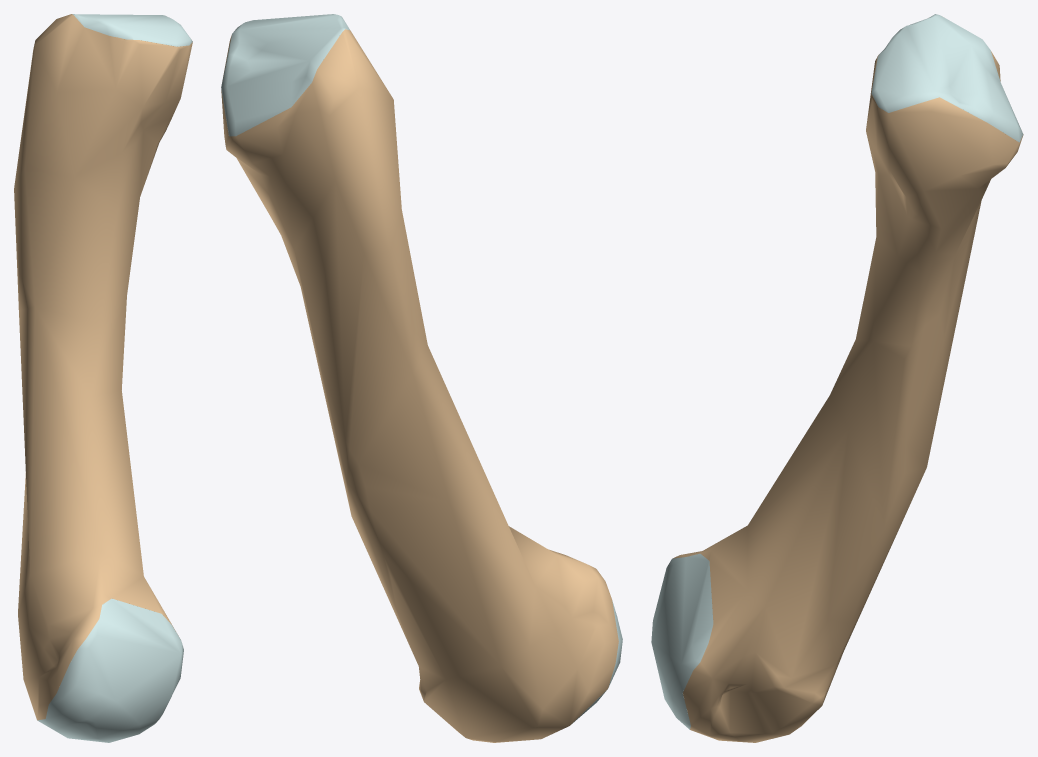
The model's file is 5th_metacarpal_bone.l_Generated_Mesh_From_X3D.738.glb.
3 renders of one model, left to right at view 1: azimuth 30°, elevation 25°; view 2: azimuth 150°, elevation 25°; view 3: azimuth 270°, elevation 25°, orthographic. The views are drawn at different scales.
Parts seen in each view (by area): view 1: 5th_metacarpal_bone.l_Generated_Mesh_From_X3D.738; view 2: 5th_metacarpal_bone.l_Generated_Mesh_From_X3D.738; view 3: 5th_metacarpal_bone.l_Generated_Mesh_From_X3D.738.
Part boxes in pixels (x1,y1,x2,y2): 5th_metacarpal_bone.l_Generated_Mesh_From_X3D.738: (14, 14, 192, 742); 5th_metacarpal_bone.l_Generated_Mesh_From_X3D.738: (221, 14, 622, 742); 5th_metacarpal_bone.l_Generated_Mesh_From_X3D.738: (651, 14, 1023, 742).
Size of the model in its own units: 0.0209 by 0.057 by 0.0255.
